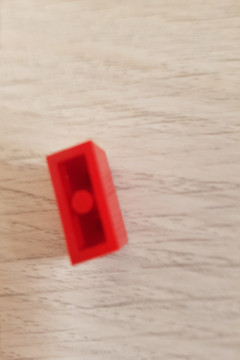1x2 red: (44, 141, 132, 265)
